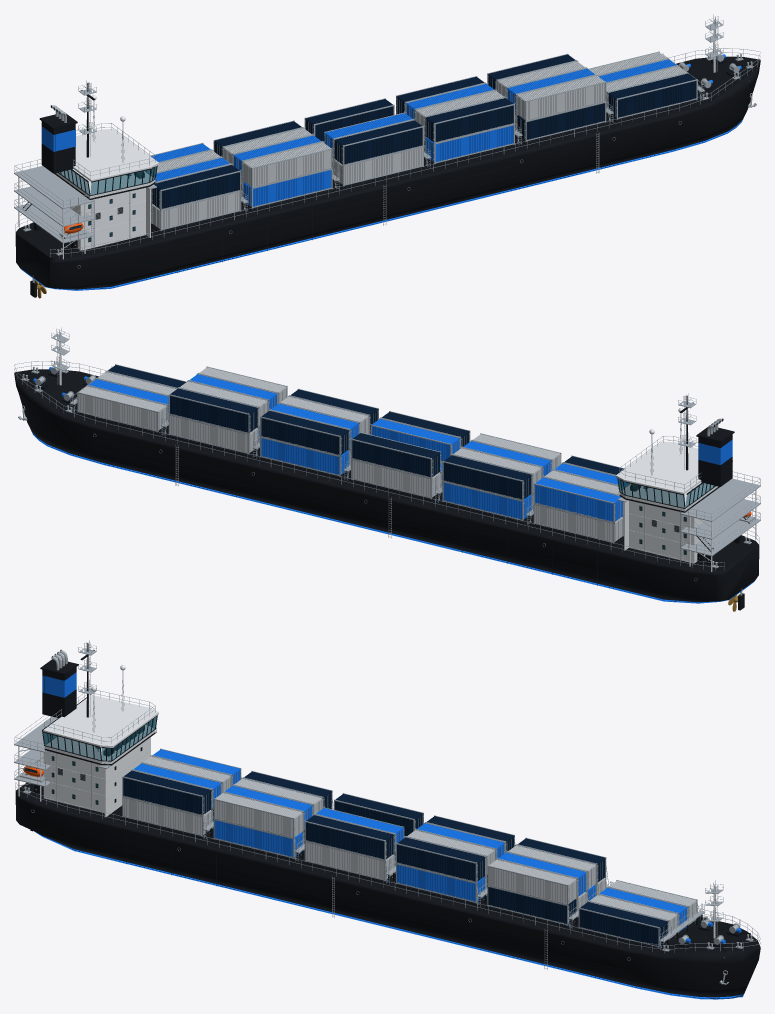
Rendered from S01-ship.glb.
The picture shows the model from 3 angles, top to bottom: view 1: azimuth 30°, elevation 25°; view 2: azimuth 150°, elevation 25°; view 3: azimuth 330°, elevation 25°; orthographic projection.
Visible parts, largest first — view 1: Pegasoft_carbon_marine_paint_solid_assemblies, Brushed_titanium_solid_assemblies, Cargo_deep_navy_solid_assemblies, Cargo_satin_silver_solid_assemblies, Pegasoft_blue_solid_assemblies, Bridge_porcelain_solid_assemblies, Marine_panel_seams_solid_assemblies, Bridge_clear_cool_glazing_solid_assemblies; view 2: Pegasoft_carbon_marine_paint_solid_assemblies, Brushed_titanium_solid_assemblies, Pegasoft_blue_solid_assemblies, Cargo_satin_silver_solid_assemblies, Cargo_deep_navy_solid_assemblies, Bridge_porcelain_solid_assemblies, Marine_panel_seams_solid_assemblies, Bridge_clear_cool_glazing_solid_assemblies; view 3: Pegasoft_carbon_marine_paint_solid_assemblies, Brushed_titanium_solid_assemblies, Cargo_deep_navy_solid_assemblies, Cargo_satin_silver_solid_assemblies, Pegasoft_blue_solid_assemblies, Bridge_porcelain_solid_assemblies, Marine_panel_seams_solid_assemblies, Bridge_clear_cool_glazing_solid_assemblies.
Part boxes in pixels (<box>): Pegasoft_carbon_marine_paint_solid_assemblies: <box>15,56,760,297</box>; Brushed_titanium_solid_assemblies: <box>14,14,760,288</box>; Cargo_deep_navy_solid_assemblies: <box>152,54,696,208</box>; Cargo_satin_silver_solid_assemblies: <box>148,52,685,228</box>; Pegasoft_blue_solid_assemblies: <box>20,54,742,290</box>; Bridge_porcelain_solid_assemblies: <box>18,19,715,259</box>; Marine_panel_seams_solid_assemblies: <box>55,99,699,272</box>; Bridge_clear_cool_glazing_solid_assemblies: <box>59,166,156,241</box>; Pegasoft_carbon_marine_paint_solid_assemblies: <box>14,369,759,610</box>; Brushed_titanium_solid_assemblies: <box>14,327,760,601</box>; Pegasoft_blue_solid_assemblies: <box>32,367,754,603</box>; Cargo_satin_silver_solid_assemblies: <box>78,367,622,541</box>; Cargo_deep_navy_solid_assemblies: <box>108,365,623,499</box>; Bridge_porcelain_solid_assemblies: <box>59,332,756,571</box>; Marine_panel_seams_solid_assemblies: <box>75,412,623,585</box>; Bridge_clear_cool_glazing_solid_assemblies: <box>618,478,713,554</box>; Pegasoft_carbon_marine_paint_solid_assemblies: <box>15,643,760,997</box>; Brushed_titanium_solid_assemblies: <box>14,640,760,984</box>; Cargo_deep_navy_solid_assemblies: <box>123,770,667,946</box>; Cargo_satin_silver_solid_assemblies: <box>123,756,696,938</box>; Pegasoft_blue_solid_assemblies: <box>34,672,743,999</box>; Bridge_porcelain_solid_assemblies: <box>18,665,715,938</box>; Marine_panel_seams_solid_assemblies: <box>44,671,699,980</box>; Bridge_clear_cool_glazing_solid_assemblies: <box>25,716,156,804</box>.
Bounding box in the file's own units: 110 × 29.67 × 13.49.
